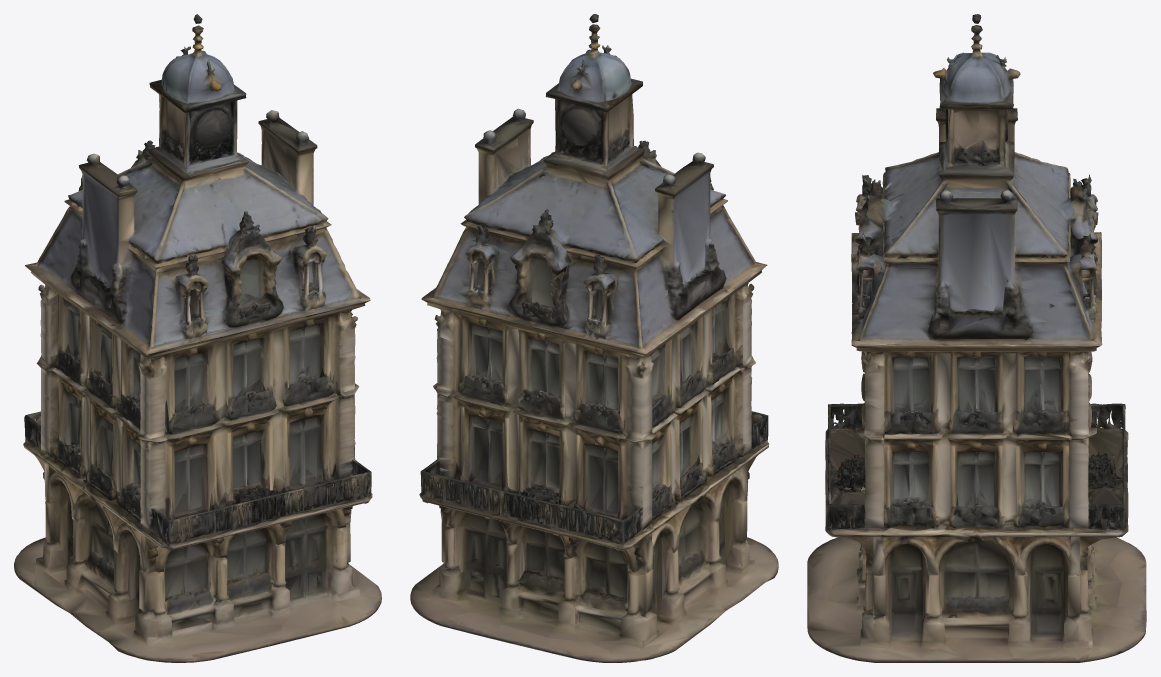
File: A_parisian_building.glb
3 views of the same model, side by side, from view 1: azimuth 30°, elevation 25°; view 2: azimuth 150°, elevation 25°; view 3: azimuth 270°, elevation 25° (orthographic). The views are drawn at different scales.
Parts seen in each view (by area): view 1: A_parisian_building; view 2: A_parisian_building; view 3: A_parisian_building.
Part boxes in pixels (<box>): A_parisian_building: <box>14,14,381,662</box>; A_parisian_building: <box>410,14,778,662</box>; A_parisian_building: <box>807,14,1146,662</box>.
Bounding box in the file's own units: 0.9194 × 1.92 × 1.01.
Materials: 1 (1 with a texture image).
